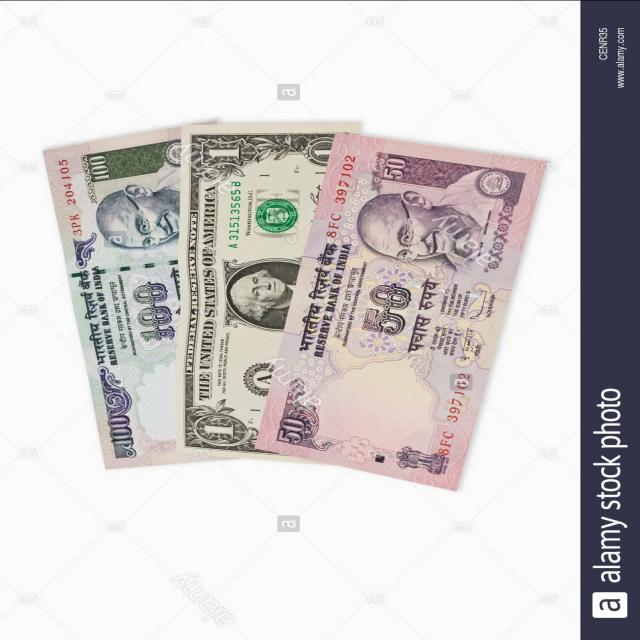100IndianRupees: (41, 122, 223, 476)
